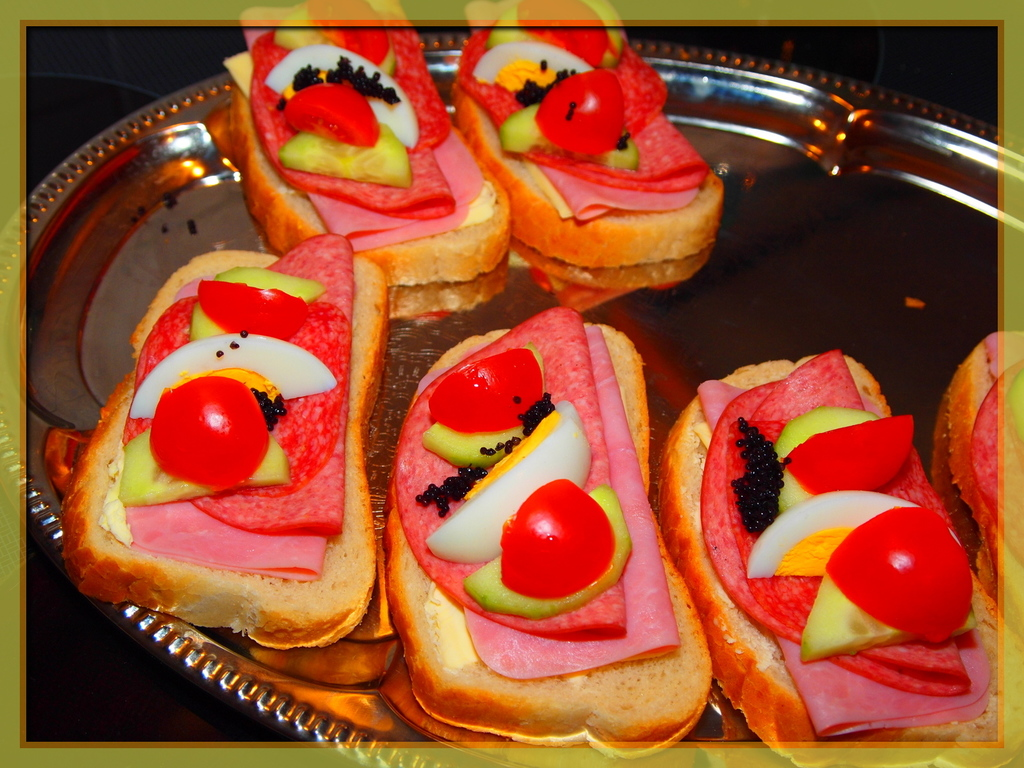sandwich: (53, 0, 1023, 767)
